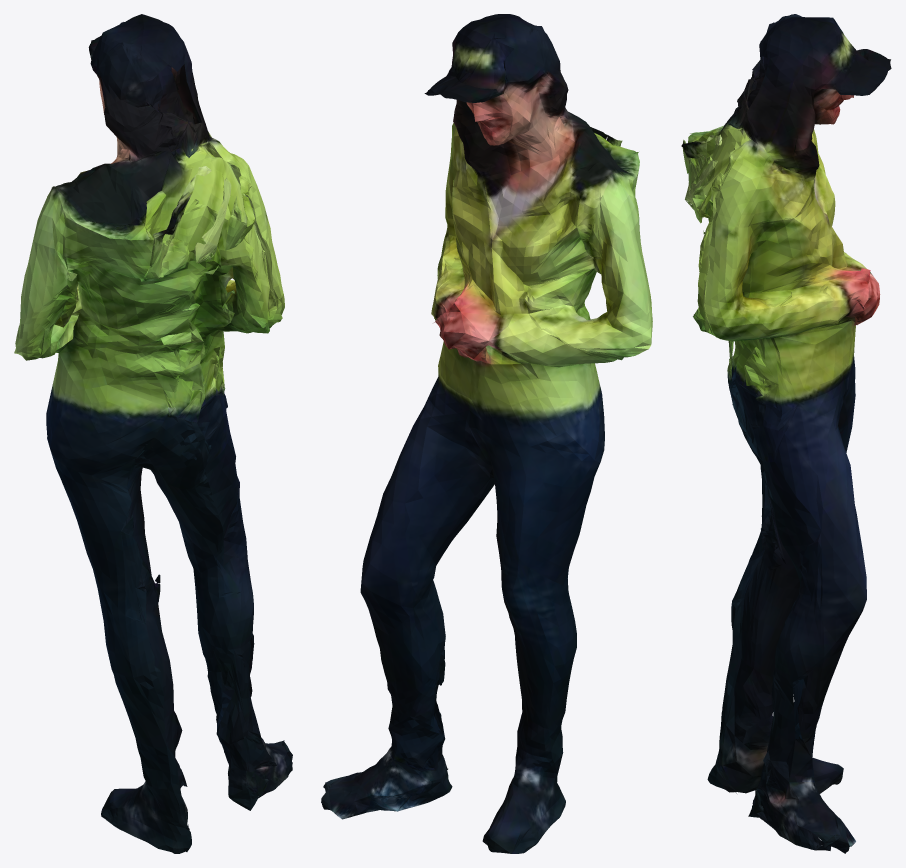
3 views of the same model, side by side, from view 1: azimuth 30°, elevation 25°; view 2: azimuth 150°, elevation 25°; view 3: azimuth 270°, elevation 25° (orthographic). The views are drawn at different scales.
Parts seen in each view (by area): view 1: dec_0017; view 2: dec_0017; view 3: dec_0017.
Boxes of the visible parts, <box> form: dec_0017: <box>14,14,292,853</box>; dec_0017: <box>321,14,652,853</box>; dec_0017: <box>681,14,891,853</box>.
Bounding box in the file's own units: 0.6836 × 1.76 × 0.4342.
Materials: 1 (1 with a texture image).
